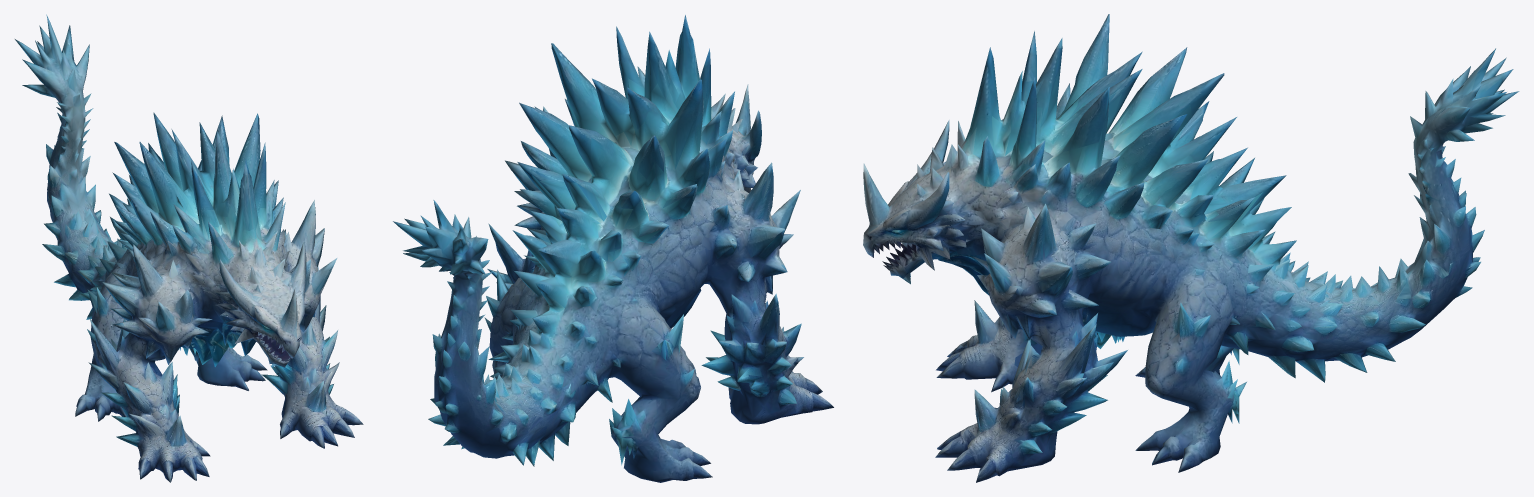
File: mob_dragon_ice.glb
The picture shows the model from 3 angles, left to right: view 1: azimuth 30°, elevation 25°; view 2: azimuth 150°, elevation 25°; view 3: azimuth 270°, elevation 25°; orthographic projection. The views are drawn at different scales.
Parts seen in each view (by area): view 1: Body; view 2: Body; view 3: Body.
Boxes of the visible parts, <box> form: Body: <box>15,14,363,482</box>; Body: <box>393,15,833,482</box>; Body: <box>863,14,1519,482</box>.
Bounding box in the file's own units: 1.17 × 1.4 × 2.2.
1 material, 1 textured.
